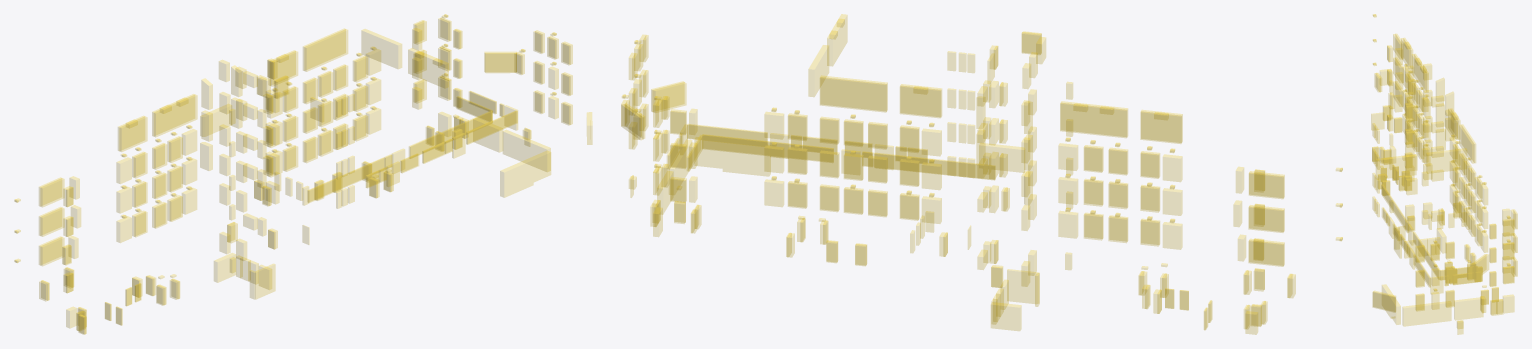
3 renders of one model, left to right at view 1: azimuth 30°, elevation 25°; view 2: azimuth 150°, elevation 25°; view 3: azimuth 270°, elevation 25°, orthographic. The views are drawn at different scales.
Visible parts, largest first — view 1: 10962, 11183, 10993, 11170, 11284, 11017, 11016, 11214, 11181, 11176, 11172, 11283 (+7 smaller); view 2: 11183, 11170, 11284, 11214, 10962, 11181, 11176, 11283, 11172, 10987, 11231, 11184 (+6 smaller); view 3: 10993, 11016, 11017, 11222, 11170, 11241, 11183, 11284, 11214, 11288, 11256, 11201 (+81 smaller).
Part boxes in pixels (box(x1,y1,x2,y2)): 10962: box(500, 151, 550, 197); 11183: box(152, 94, 197, 136); 10993: box(503, 130, 550, 171); 11170: box(303, 28, 347, 71); 11284: box(409, 111, 492, 158); 11017: box(408, 48, 448, 88); 11016: box(361, 29, 401, 68); 11214: box(307, 157, 384, 202); 11181: box(118, 116, 147, 151); 11176: box(269, 50, 297, 86); 11172: box(200, 104, 231, 136); 11283: box(466, 111, 517, 144); 11183: box(1060, 101, 1127, 137); 11170: box(820, 75, 887, 112); 11284: box(702, 134, 833, 162); 11214: box(874, 153, 995, 180); 10962: box(694, 139, 770, 176); 11181: box(1140, 110, 1182, 143); 11176: box(900, 84, 941, 117); 11283: box(687, 124, 767, 146); 11172: box(979, 143, 1024, 172); 10987: box(1007, 269, 1038, 303); 11231: box(1248, 239, 1284, 266); 11184: box(1248, 205, 1284, 232); 10993: box(1402, 302, 1451, 326); 11016: box(1426, 148, 1466, 173); 11017: box(1376, 154, 1416, 179); 11222: box(1454, 297, 1483, 320); 11170: box(1459, 124, 1475, 163); 11241: box(1372, 291, 1395, 312); 11183: box(1412, 54, 1428, 92); 11284: box(1413, 232, 1439, 279); 11214: box(1381, 184, 1406, 228); 11288: box(1440, 266, 1477, 280); 11256: box(1473, 254, 1488, 278); 11201: box(1453, 272, 1481, 284).
Size of the model in its own units: 73.75 by 26.86 by 19.76.
